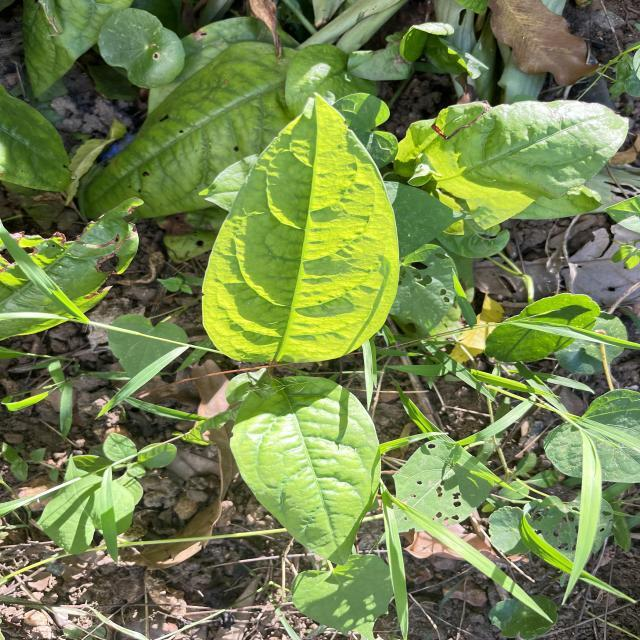Plumbago indica: (194, 89, 406, 370), (73, 35, 334, 220), (223, 372, 390, 572), (430, 94, 633, 230)
